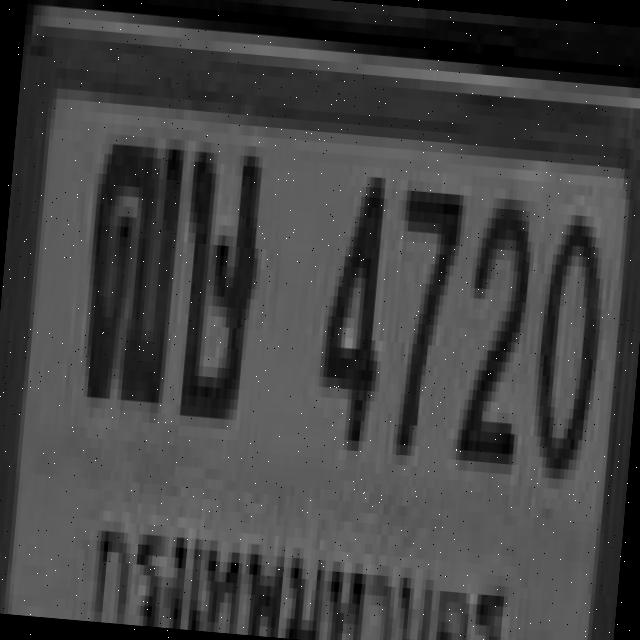0: (526, 202, 606, 470)
2: (452, 186, 532, 454)
27ThorPhuThao: (75, 122, 182, 403)
4: (310, 163, 390, 441)
48SorRueSi: (168, 136, 264, 416)
7: (382, 180, 461, 448)
